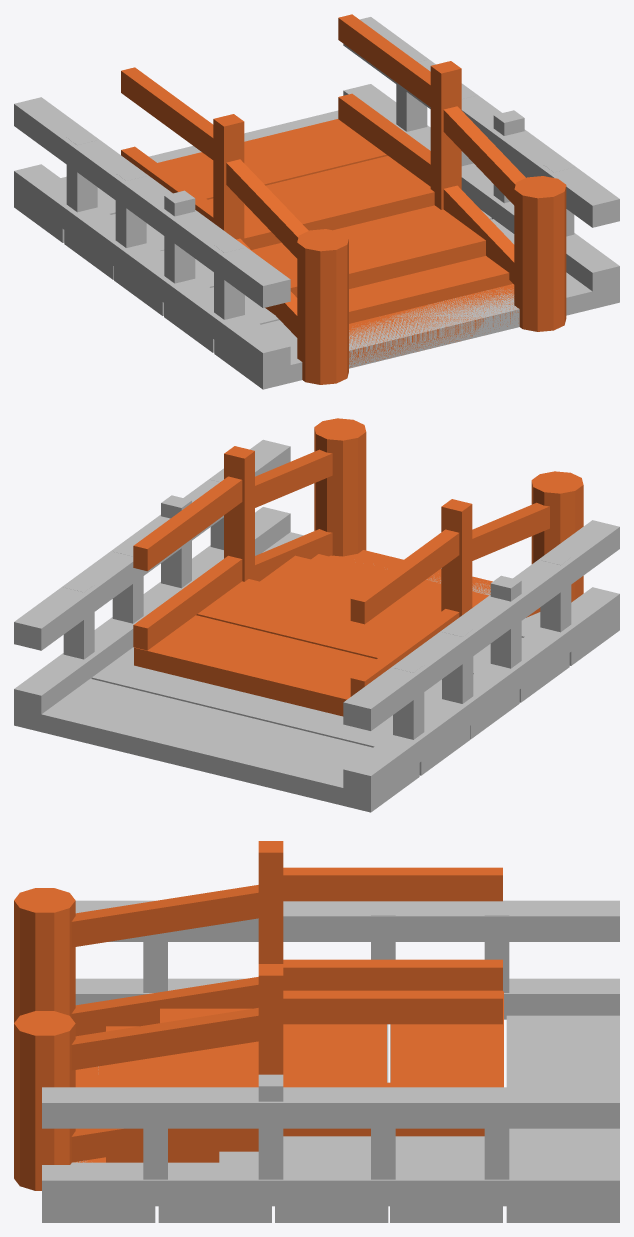
File: FBX_Puentes.fbx
3 views of the same model, one above another, from view 1: azimuth 30°, elevation 25°; view 2: azimuth 150°, elevation 25°; view 3: azimuth 270°, elevation 25° (orthographic). The views are drawn at different scales.
Visible parts, largest first — view 1: MSH_Puente02, MSH_Puente01; view 2: MSH_Puente01, MSH_Puente02; view 3: MSH_Puente01, MSH_Puente02.
Part boxes in pixels (<box>): MSH_Puente02: <box>121,14,566,384</box>; MSH_Puente01: <box>14,17,619,389</box>; MSH_Puente01: <box>14,439,619,812</box>; MSH_Puente02: <box>133,418,583,716</box>; MSH_Puente01: <box>42,900,619,1222</box>; MSH_Puente02: <box>14,841,503,1190</box>.
Bounding box in the file's own units: 175 × 85.03 × 222.
